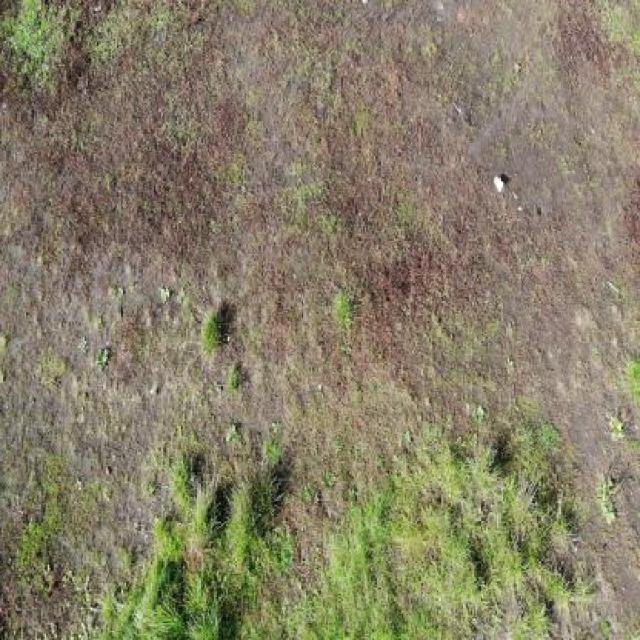Garbage: (492, 173, 507, 197)
